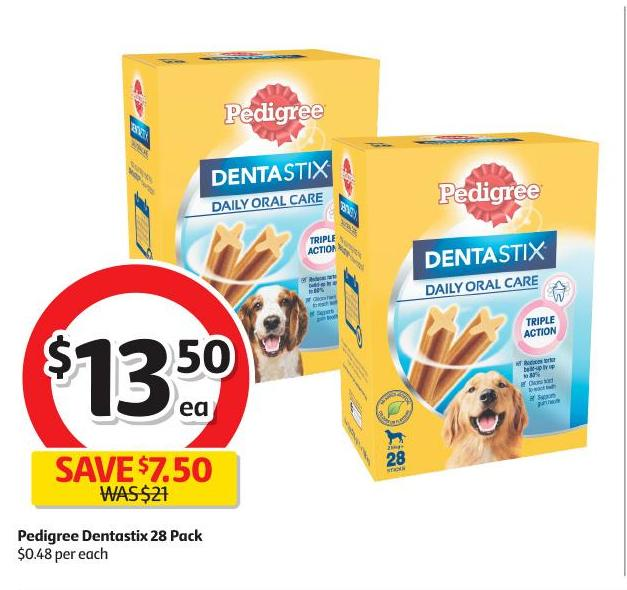description_block: (3, 518, 219, 548)
price_main: (46, 313, 235, 443)
product_image_block: (155, 59, 600, 465)
promo_text_block: (43, 449, 225, 491)
unit_price_block: (8, 547, 120, 567)
